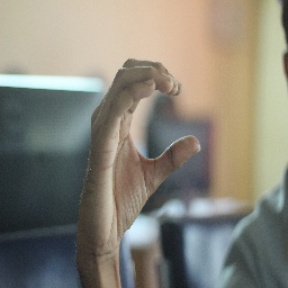C: (90, 52, 204, 180)
